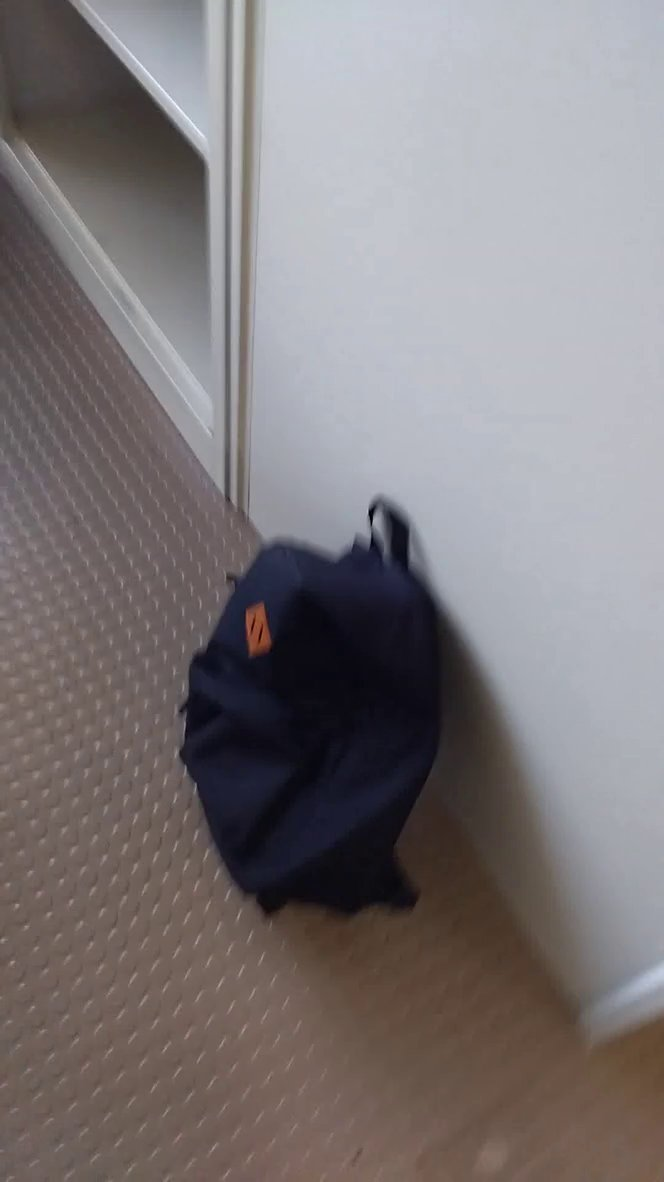bag: (169, 480, 484, 937)
